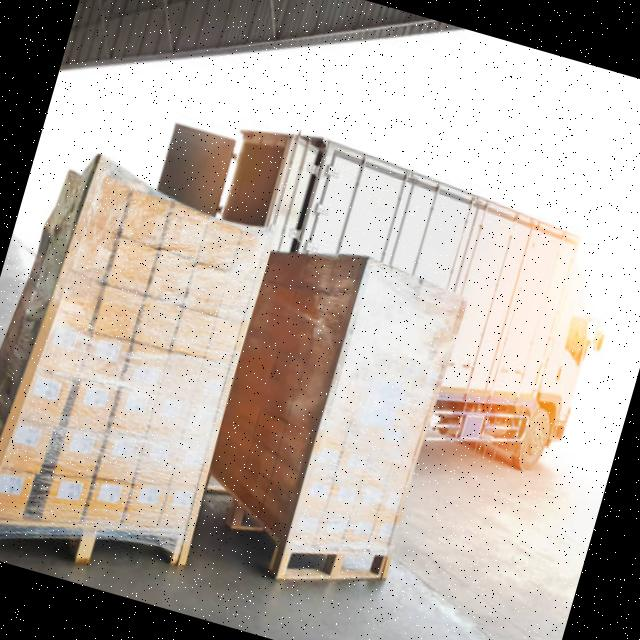Wooden-Pallets: (272, 545, 396, 588)
